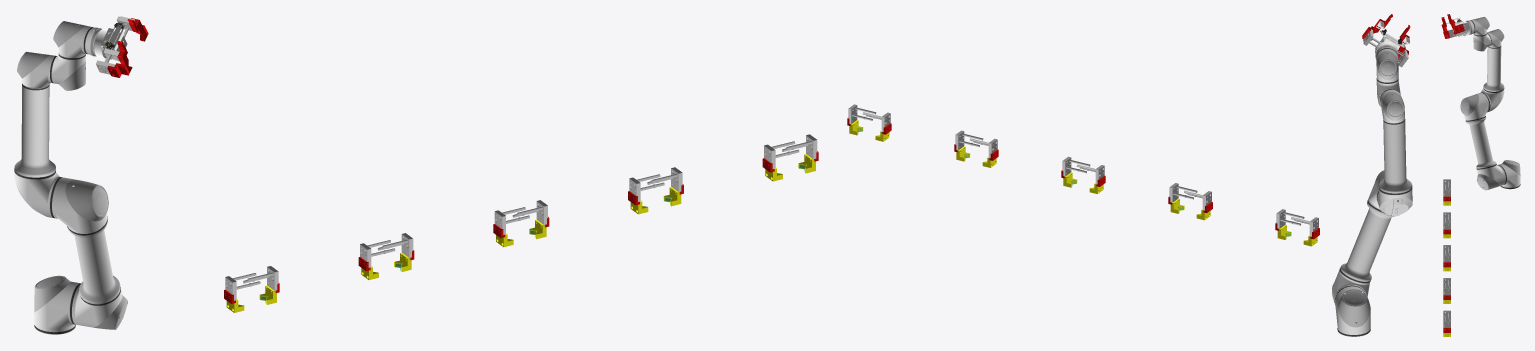
The model's file is Checker_1.fbx.
3 renders of one model, left to right at view 1: azimuth 30°, elevation 25°; view 2: azimuth 150°, elevation 25°; view 3: azimuth 270°, elevation 25°, orthographic. The views are drawn at different scales.
Visible parts, largest first — view 1: Cheker_Move_Hand_L.001, Cheker_Move_Hand_R.001, Checker_Arm_6.001, Checker_Arm_4.001, Checker_Arm_3.001, Checker_Arm_1.001, Checker_Arm_2.001, Checker_Arm_5.001, Checker_Arm_7.001, Checker_Arm_9.001, Checker_Arm_8.001, Checker_Arm_10.001 (+1 smaller); view 2: Cheker_Move_Hand_R.001, Checker_Arm_3.001, Cheker_Move_Hand_L.001, Checker_Arm_6.001, Checker_Arm_1.001, Checker_Arm_5.001, Checker_Arm_7.001, Checker_Arm_9.001, Checker_Arm_2.001; view 3: Checker_Arm_3.001, Cheker_Move_Hand_R.001, Checker_Arm_6.001, Checker_Arm_4.001, Checker_Arm_2.001, Checker_Arm_1.001, Cheker_Move_Hand_L.001, Checker_Arm_8.001, Checker_Arm_5.001, Checker_Arm_9.001, Checker_Arm_7.001, Checker_Tongs_R.001 (+2 smaller).
Boxes of the visible parts, x1,y1,x2,y2 form: Cheker_Move_Hand_L.001: (224, 141, 799, 312); Cheker_Move_Hand_R.001: (243, 134, 818, 304); Checker_Arm_6.001: (14, 83, 55, 177); Checker_Arm_4.001: (49, 177, 108, 233); Checker_Arm_3.001: (67, 216, 120, 304); Checker_Arm_1.001: (34, 275, 80, 334); Checker_Arm_2.001: (72, 285, 127, 329); Checker_Arm_5.001: (14, 170, 59, 217); Checker_Arm_7.001: (17, 51, 56, 87); Checker_Arm_9.001: (53, 21, 93, 57); Checker_Arm_8.001: (52, 53, 85, 90); Checker_Arm_10.001: (85, 22, 127, 61); Cheker_Move_Hand_R.001: (847, 104, 1304, 239); Checker_Arm_3.001: (1340, 200, 1394, 281); Cheker_Move_Hand_L.001: (862, 112, 1319, 246); Checker_Arm_6.001: (1379, 119, 1412, 193); Checker_Arm_1.001: (1334, 285, 1370, 336); Checker_Arm_5.001: (1377, 186, 1412, 216); Checker_Arm_7.001: (1380, 89, 1404, 123); Checker_Arm_9.001: (1376, 48, 1398, 82); Checker_Arm_2.001: (1332, 268, 1370, 303); Checker_Arm_3.001: (1465, 116, 1496, 168); Cheker_Move_Hand_R.001: (1443, 184, 1450, 336); Checker_Arm_6.001: (1483, 46, 1504, 91); Checker_Arm_4.001: (1460, 92, 1490, 120); Checker_Arm_2.001: (1476, 164, 1505, 190); Checker_Arm_1.001: (1497, 160, 1520, 189); Cheker_Move_Hand_L.001: (1443, 179, 1450, 325); Checker_Arm_8.001: (1473, 32, 1491, 51); Checker_Arm_5.001: (1481, 88, 1504, 111); Checker_Arm_9.001: (1469, 17, 1489, 35); Checker_Arm_7.001: (1487, 29, 1504, 47); Checker_Tongs_R.001: (1447, 14, 1470, 34).
Bounding box in the file's own units: 276 × 122 × 50.42.
